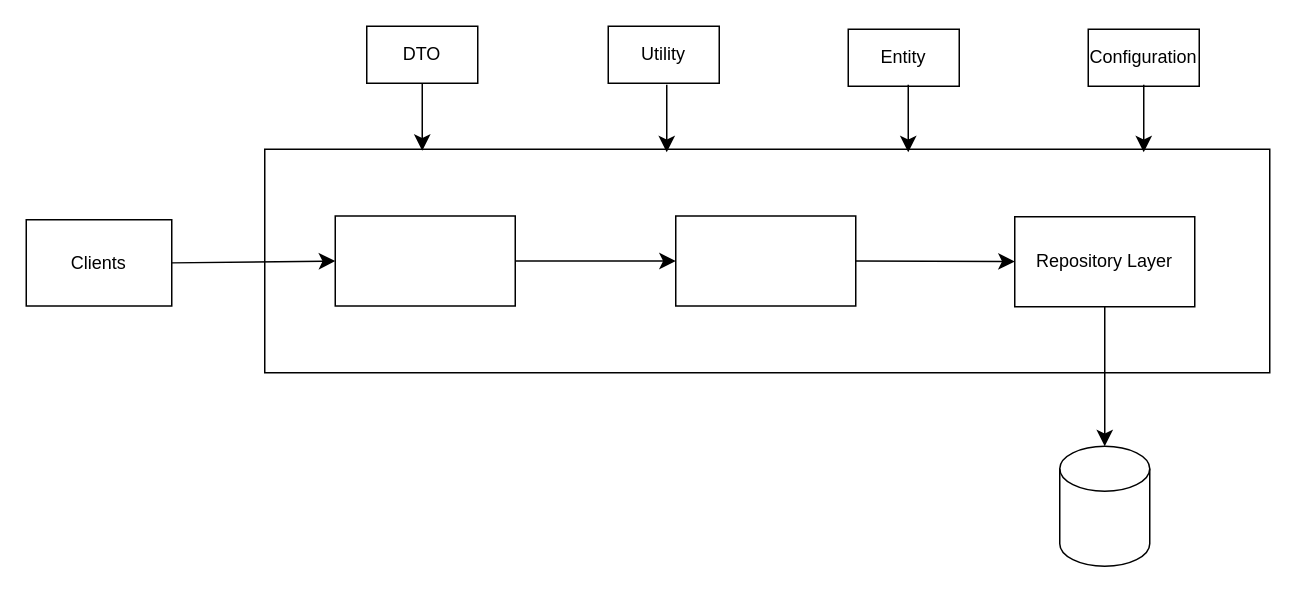
Image size: 1296x593. Some labels were removed from this diagram. Here are the shapes that lost their labels. From the top down, the centre of each, then its label:
At pixel 424 260: "Controller Layer".
At pixel 765 260: "Service Layer".
At pixel 1104 505: "DB".
